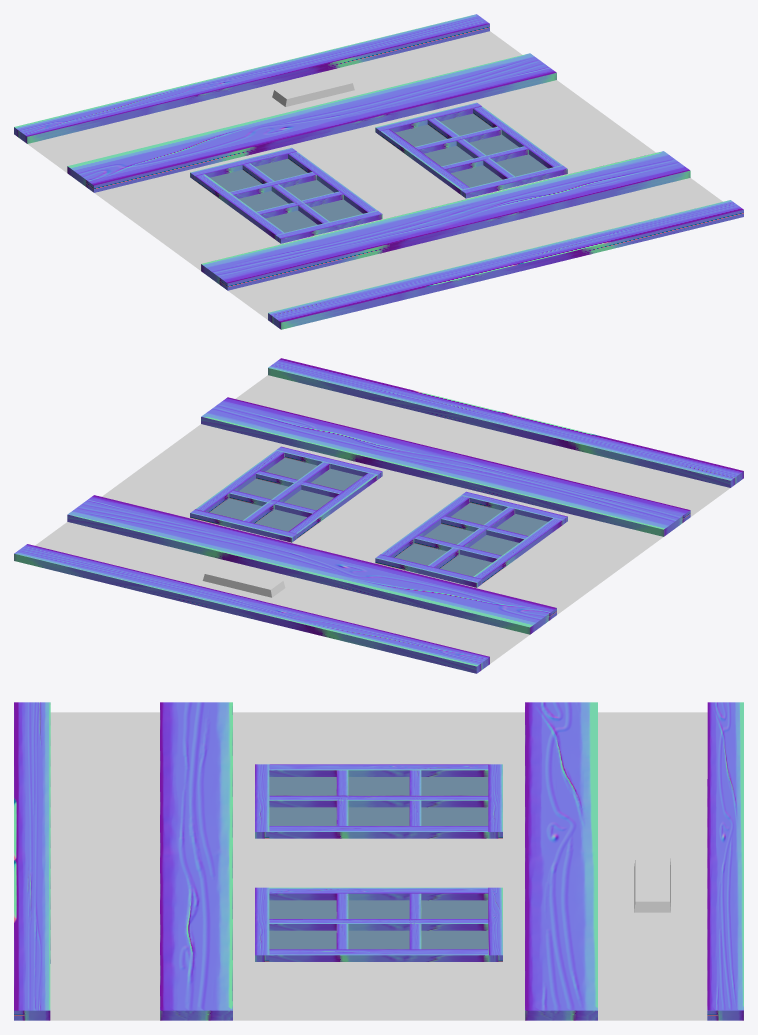
The model's file is SM_Window_A.fbx.
The picture shows the model from 3 angles, top to bottom: view 1: azimuth 30°, elevation 25°; view 2: azimuth 150°, elevation 25°; view 3: azimuth 270°, elevation 25°; orthographic projection. The views are drawn at different scales.
Visible parts, largest first — view 1: SM_Window_A; view 2: SM_Window_A; view 3: SM_Window_A.
Part boxes in pixels (<box>): SM_Window_A: <box>14,14,743,329</box>; SM_Window_A: <box>14,358,743,673</box>; SM_Window_A: <box>14,702,743,1020</box>.
Size of the model in its own units: 200 by 5 by 200.
